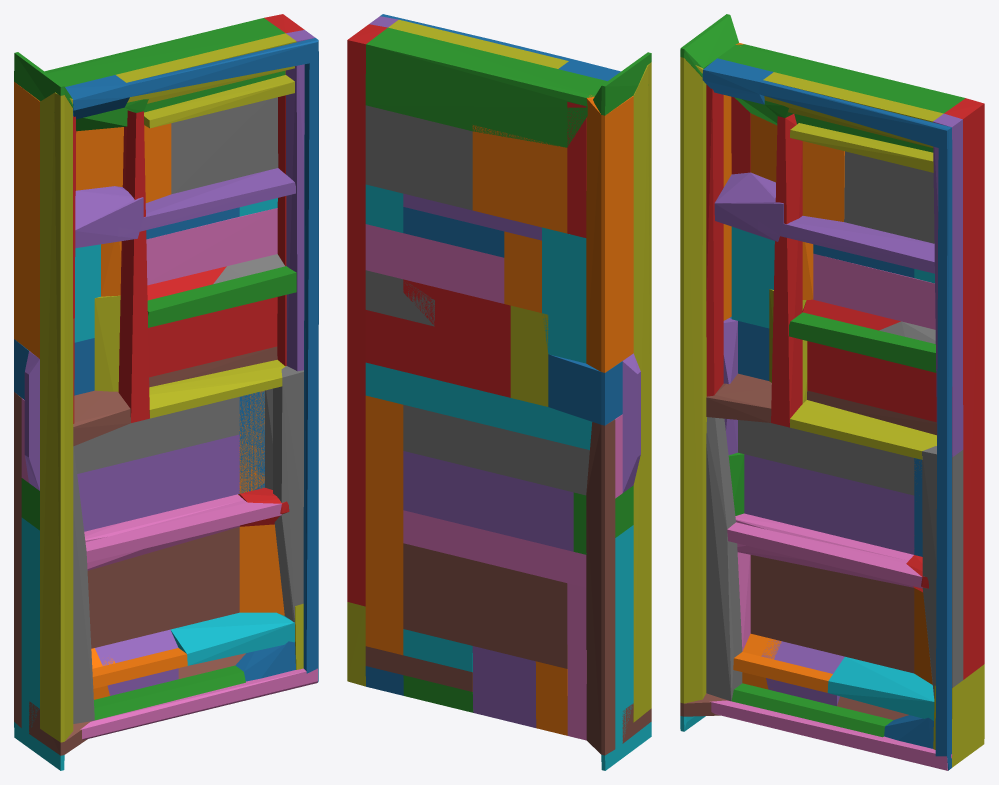
File: Drawer_08_cvx.obj
The picture shows the model from 3 angles, left to right: view 1: azimuth 30°, elevation 25°; view 2: azimuth 150°, elevation 25°; view 3: azimuth 330°, elevation 25°; orthographic projection.
Visible parts, largest first — view 1: scenes/apartment_0000_coacd/output/Unknown/Kitchen_Oven/Drawer_0; view 2: scenes/apartment_0000_coacd/output/Unknown/Kitchen_Oven/Drawer_0; view 3: scenes/apartment_0000_coacd/output/Unknown/Kitchen_Oven/Drawer_0.
Part boxes in pixels (x1,y1,x2,y2): scenes/apartment_0000_coacd/output/Unknown/Kitchen_Oven/Drawer_0: [14, 14, 318, 770]; scenes/apartment_0000_coacd/output/Unknown/Kitchen_Oven/Drawer_0: [347, 14, 651, 770]; scenes/apartment_0000_coacd/output/Unknown/Kitchen_Oven/Drawer_0: [680, 14, 984, 770].
Size of the model in its own units: 0.5642 by 1.34 by 0.1666.
